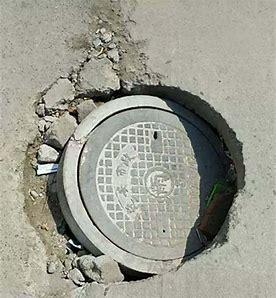wellcover: (25, 78, 252, 293)
